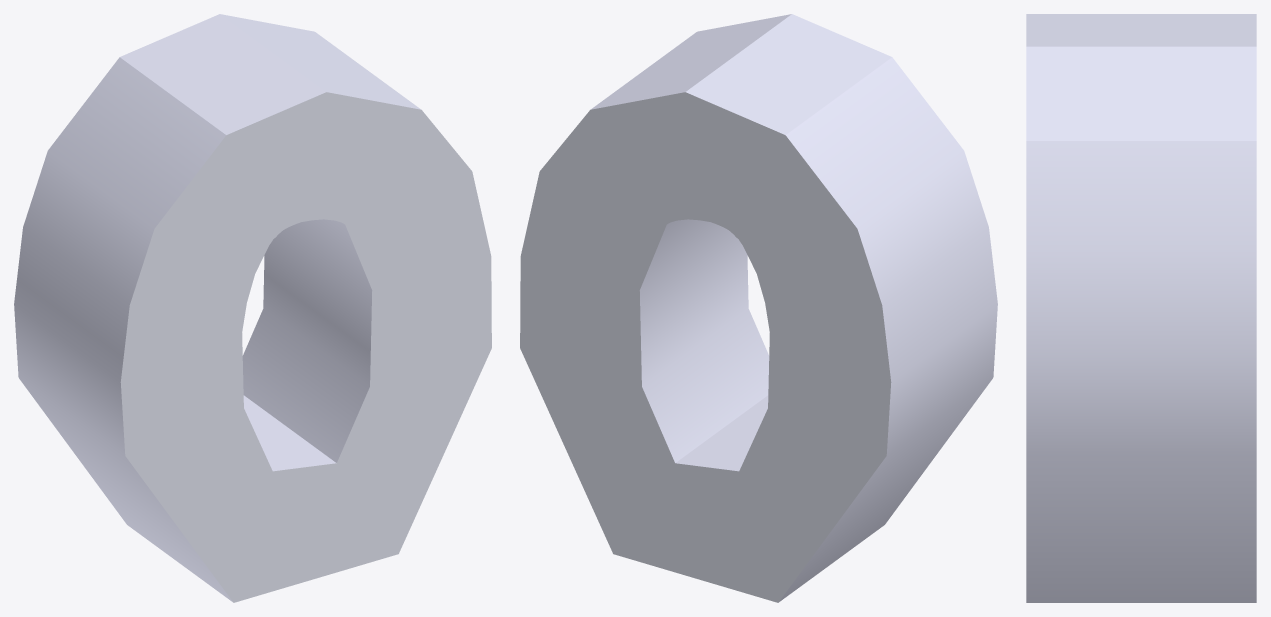
Rendered from a4794e21-29b1-49e1-a82d-430cadeec1c9.glb.
3 views of the same model, side by side, from view 1: azimuth 30°, elevation 25°; view 2: azimuth 150°, elevation 25°; view 3: azimuth 270°, elevation 25° (orthographic). The views are drawn at different scales.
Visible parts, largest first — view 1: 0_Zyzol_Grey; view 2: 0_Zyzol_Grey; view 3: 0_Zyzol_Grey.
Part boxes in pixels (x1,y1,x2,y2): 0_Zyzol_Grey: [14, 14, 491, 602]; 0_Zyzol_Grey: [520, 14, 997, 602]; 0_Zyzol_Grey: [1026, 14, 1256, 602].
Size of what is drawn, in the model's own units: 0.0904 by 0.1136 by 0.045.
Materials: 2 (2 with a texture image).
